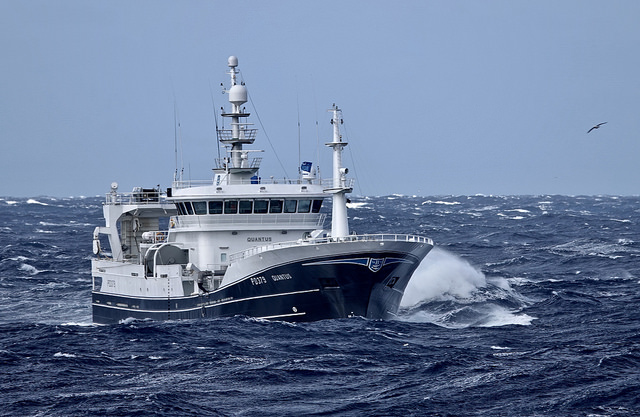fishing_boat: (82, 55, 446, 327)
